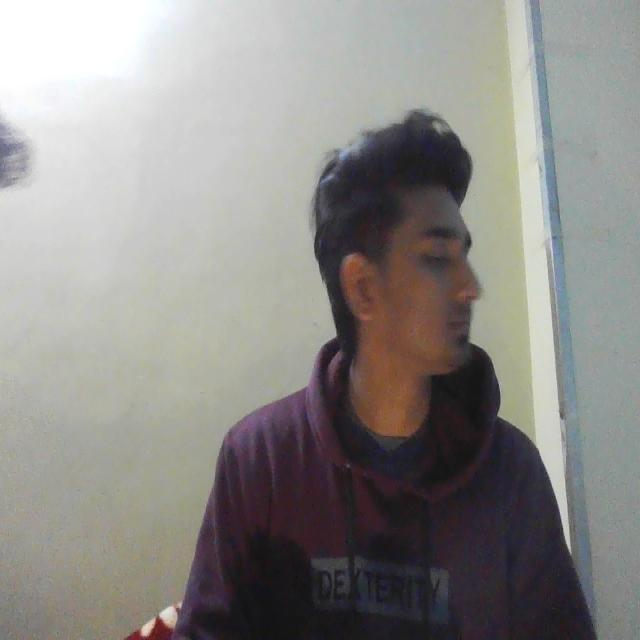real: (349, 121, 494, 395)
